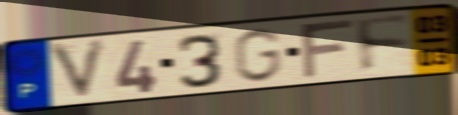3: (176, 32, 226, 90)
4: (113, 36, 160, 95)
F: (299, 16, 357, 82), (353, 14, 414, 76)
G: (231, 27, 284, 85)
V: (46, 36, 111, 104)
